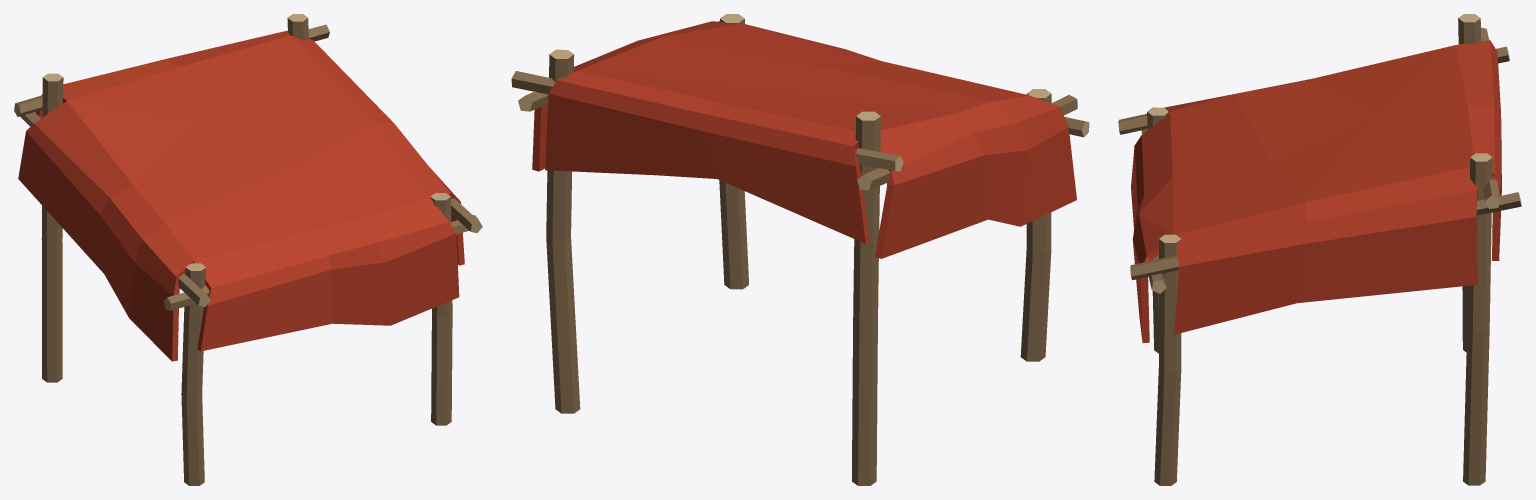
The model's file is rpgpp_ag_awning_standing_01a.fbx.
3 renders of one model, left to right at view 1: azimuth 30°, elevation 25°; view 2: azimuth 150°, elevation 25°; view 3: azimuth 270°, elevation 25°, orthographic. The views are drawn at different scales.
Visible parts, largest first — view 1: rpgpp_ag_awning_standing_01a; view 2: rpgpp_ag_awning_standing_01a; view 3: rpgpp_ag_awning_standing_01a.
Part boxes in pixels (<box>): rpgpp_ag_awning_standing_01a: <box>14,14,482,485</box>; rpgpp_ag_awning_standing_01a: <box>511,14,1089,485</box>; rpgpp_ag_awning_standing_01a: <box>1118,14,1521,485</box>.
Bounding box in the file's own units: 3.32 × 3.03 × 3.35.
